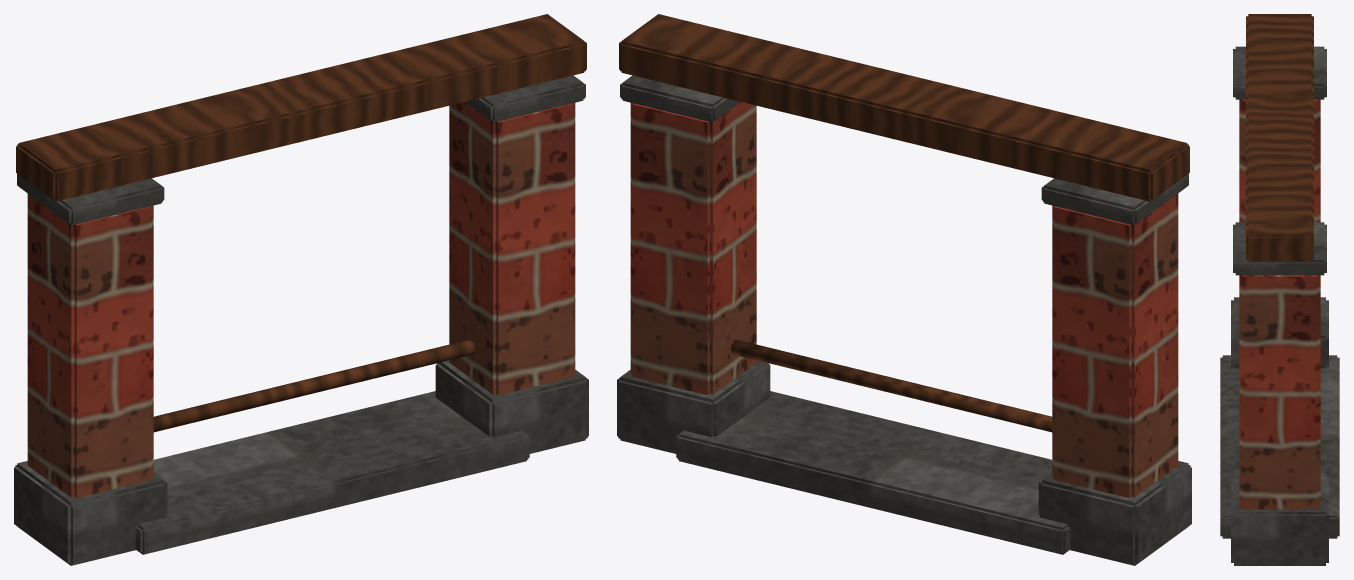
File: veli_gate_padavetti.glb
The picture shows the model from 3 angles, left to right: view 1: azimuth 30°, elevation 25°; view 2: azimuth 150°, elevation 25°; view 3: azimuth 270°, elevation 25°; orthographic projection. The views are drawn at different scales.
Visible parts, largest first — view 1: veli_gate_padavetti; view 2: veli_gate_padavetti; view 3: veli_gate_padavetti.
Boxes of the visible parts, <box> form: veli_gate_padavetti: <box>14,14,588,565</box>; veli_gate_padavetti: <box>617,14,1191,565</box>; veli_gate_padavetti: <box>1220,14,1339,565</box>.
Bounding box in the file's own units: 2.47 × 1.73 × 0.56.
3 materials, 3 textured.
